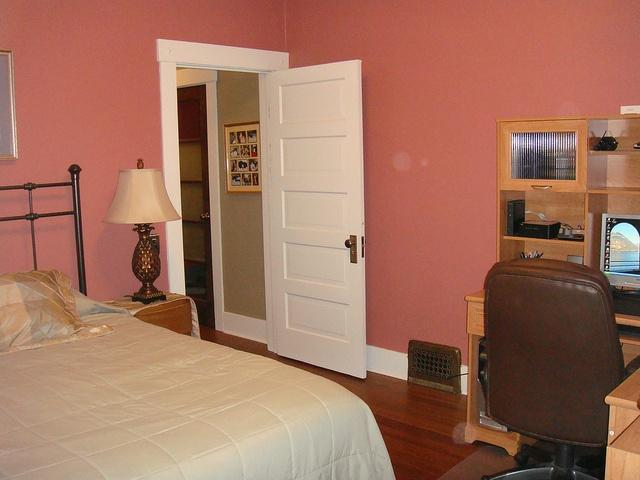AIO PC-Monitor-TV: (597, 211, 639, 293)
Kursi: (476, 257, 639, 479)
